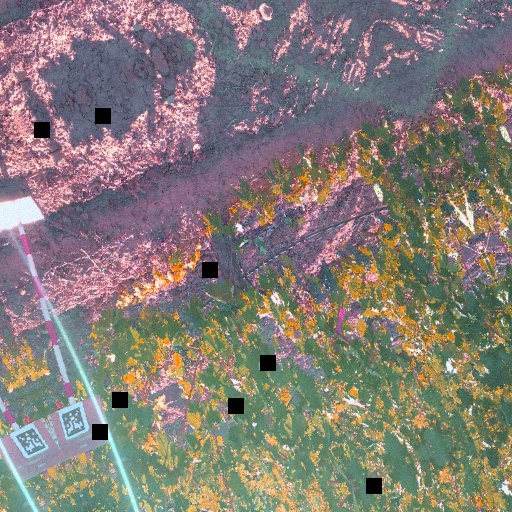QR: (57, 404, 89, 437)
